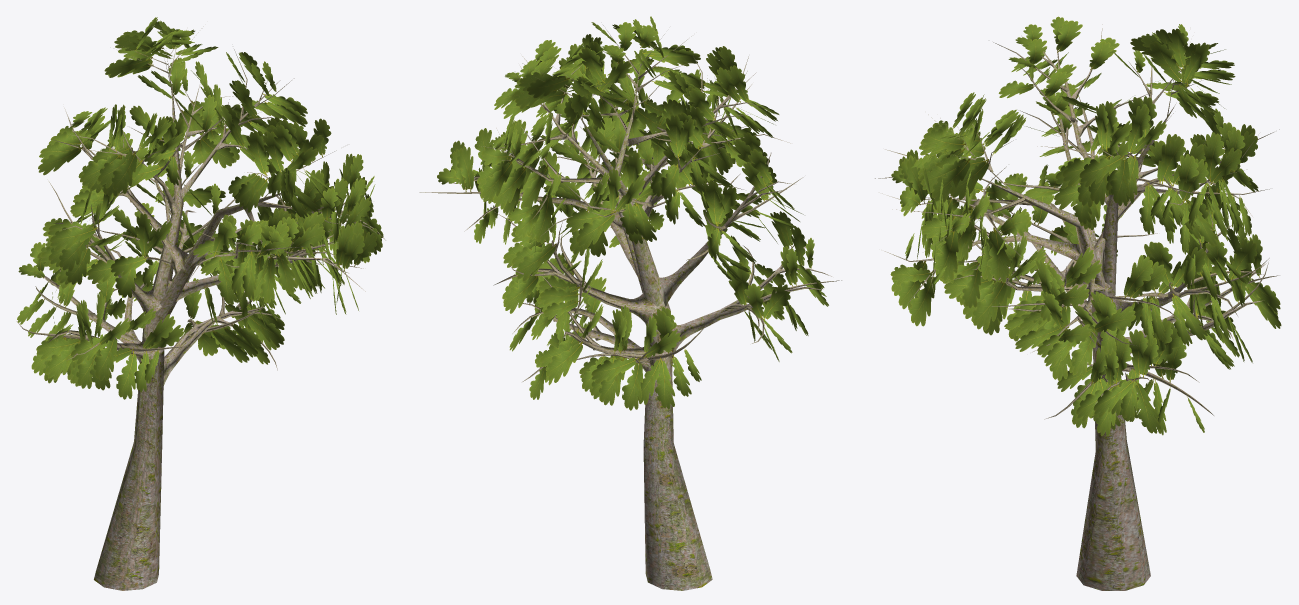
Rendered from oak2.fbx.
3 views of the same model, side by side, from view 1: azimuth 30°, elevation 25°; view 2: azimuth 150°, elevation 25°; view 3: azimuth 270°, elevation 25° (orthographic). The views are drawn at different scales.
Parts seen in each view (by area): view 1: Tree_1, Tree_0; view 2: Tree_1, Tree_0; view 3: Tree_1, Tree_0.
Part boxes in pixels (<box>): Tree_1: <box>17,17,383,399</box>; Tree_0: <box>16,26,385,590</box>; Tree_1: <box>437,16,828,410</box>; Tree_0: <box>419,25,841,590</box>; Tree_1: <box>890,16,1281,436</box>; Tree_0: <box>875,24,1279,590</box>.
Bounding box in the file's own units: 306 × 434 × 276.
2 materials, 2 textured.
